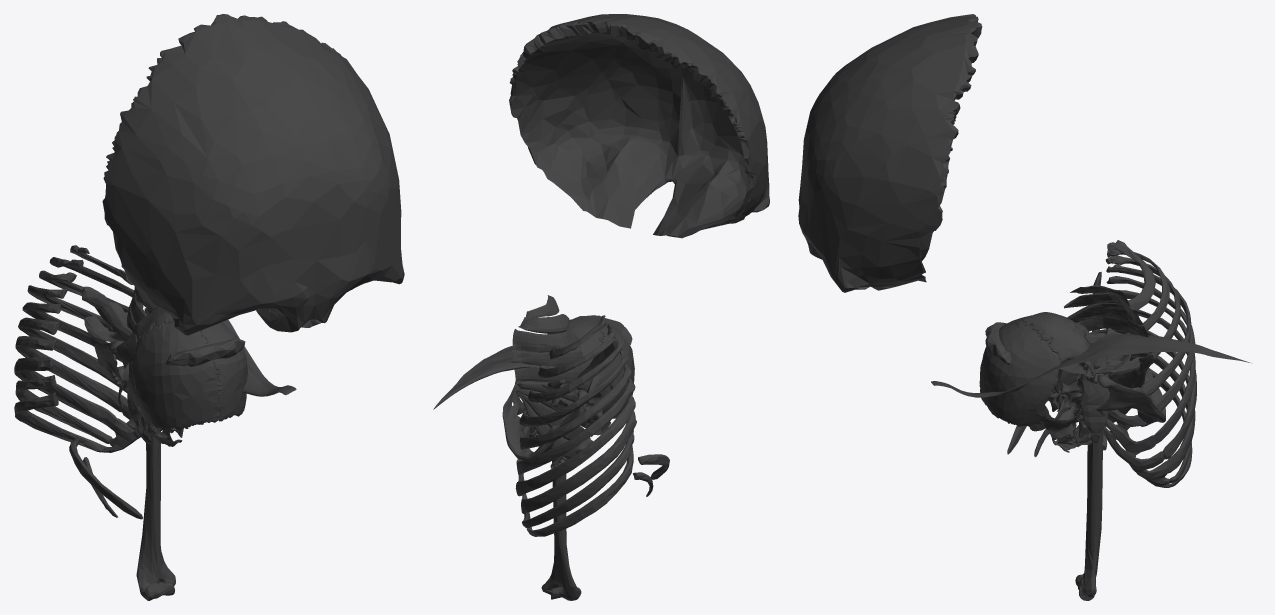
File: sharedassets59.glb
The picture shows the model from 3 angles, left to right: view 1: azimuth 30°, elevation 25°; view 2: azimuth 150°, elevation 25°; view 3: azimuth 270°, elevation 25°; orthographic projection. The views are drawn at different scales.
Visible parts, largest first — view 1: 0130_Frontal__001097, 0118_Parietal, R__001095, 0019_Humerus _arm, brachium_, R__000807, 0119_Parietal, L__001094, 0006_Eighth rib _08_, R__002280, 0015_Seventh rib _07_, R__002279, 0008_Tenth rib _10_, R__002282, 0007_Ninth rib _09_, R__002281, 0014_Sixth rib _06_, R__002278, 0002_Manubrium__001162, 0016_Trapezius, R__1000437, 0013_Fifth rib _05_, R__002277 (+11 smaller); view 2: 0130_Frontal__001097, 0000_Serratus anterior, R__1000377, 0006_Eighth rib _08_, R__002280, 0015_Seventh rib _07_, R__002279, 0019_Humerus _arm, brachium_, R__000807, 0114_Mandible_body_001091, 0014_Sixth rib _06_, R__002278, 0007_Ninth rib _09_, R__002281, 0008_Tenth rib _10_, R__002282, 0016_Trapezius, R__1000437, 0013_Fifth rib _05_, R__002277, 0012_Fourth rib _04_, R__002276 (+7 smaller); view 3: 0130_Frontal__001097, 0119_Parietal, L__001094, 0000_Serratus anterior, R__1000377, 0016_Trapezius, R__1000437, 0019_Humerus _arm, brachium_, R__000807, 0120_Occipital__001132, 0114_Mandible_body_001091, 0014_Sixth rib _06_, R__002278, 0015_Seventh rib _07_, R__002279, 0013_Fifth rib _05_, R__002277, 0003_Body of sternum__001163, 0168_Sphenoid__001143 (+8 smaller).
Part boxes in pixels (bbox=[...]): 0130_Frontal__001097: bbox=[102, 14, 404, 335]; 0118_Parietal, R__001095: bbox=[132, 321, 220, 430]; 0019_Humerus _arm, brachium_, R__000807: bbox=[136, 431, 175, 600]; 0119_Parietal, L__001094: bbox=[200, 322, 247, 421]; 0006_Eighth rib _08_, R__002280: bbox=[14, 357, 140, 444]; 0015_Seventh rib _07_, R__002279: bbox=[15, 336, 130, 419]; 0008_Tenth rib _10_, R__002282: bbox=[14, 392, 122, 452]; 0007_Ninth rib _09_, R__002281: bbox=[15, 375, 129, 449]; 0014_Sixth rib _06_, R__002278: bbox=[18, 317, 127, 392]; 0002_Manubrium__001162: bbox=[165, 337, 245, 366]; 0016_Trapezius, R__1000437: bbox=[122, 319, 296, 396]; 0013_Fifth rib _05_, R__002277: bbox=[22, 302, 120, 361]; 0130_Frontal__001097: bbox=[509, 14, 769, 238]; 0000_Serratus anterior, R__1000377: bbox=[511, 295, 590, 459]; 0006_Eighth rib _08_, R__002280: bbox=[521, 411, 636, 515]; 0015_Seventh rib _07_, R__002279: bbox=[515, 395, 635, 496]; 0019_Humerus _arm, brachium_, R__000807: bbox=[541, 456, 581, 600]; 0114_Mandible_body_001091: bbox=[502, 381, 587, 460]; 0014_Sixth rib _06_, R__002278: bbox=[516, 378, 635, 475]; 0007_Ninth rib _09_, R__002281: bbox=[522, 430, 634, 527]; 0008_Tenth rib _10_, R__002282: bbox=[526, 446, 633, 536]; 0016_Trapezius, R__1000437: bbox=[433, 346, 613, 409]; 0013_Fifth rib _05_, R__002277: bbox=[520, 364, 631, 449]; 0012_Fourth rib _04_, R__002276: bbox=[519, 350, 628, 426]; 0130_Frontal__001097: bbox=[798, 14, 982, 292]; 0119_Parietal, L__001094: bbox=[979, 320, 1061, 431]; 0000_Serratus anterior, R__1000377: bbox=[1051, 285, 1153, 428]; 0016_Trapezius, R__1000437: bbox=[931, 333, 1251, 397]; 0019_Humerus _arm, brachium_, R__000807: bbox=[1075, 431, 1103, 600]; 0120_Occipital__001132: bbox=[1023, 312, 1095, 381]; 0114_Mandible_body_001091: bbox=[1096, 368, 1165, 426]; 0014_Sixth rib _06_, R__002278: bbox=[1105, 289, 1195, 454]; 0015_Seventh rib _07_, R__002279: bbox=[1102, 309, 1196, 472]; 0013_Fifth rib _05_, R__002277: bbox=[1106, 276, 1195, 429]; 0003_Body of sternum__001163: bbox=[1079, 333, 1109, 433]; 0168_Sphenoid__001143: bbox=[1043, 382, 1085, 441].
Bounding box in the file's own units: 0.175 × 0.3779 × 0.276.
Materials: 1 (1 with a texture image).
